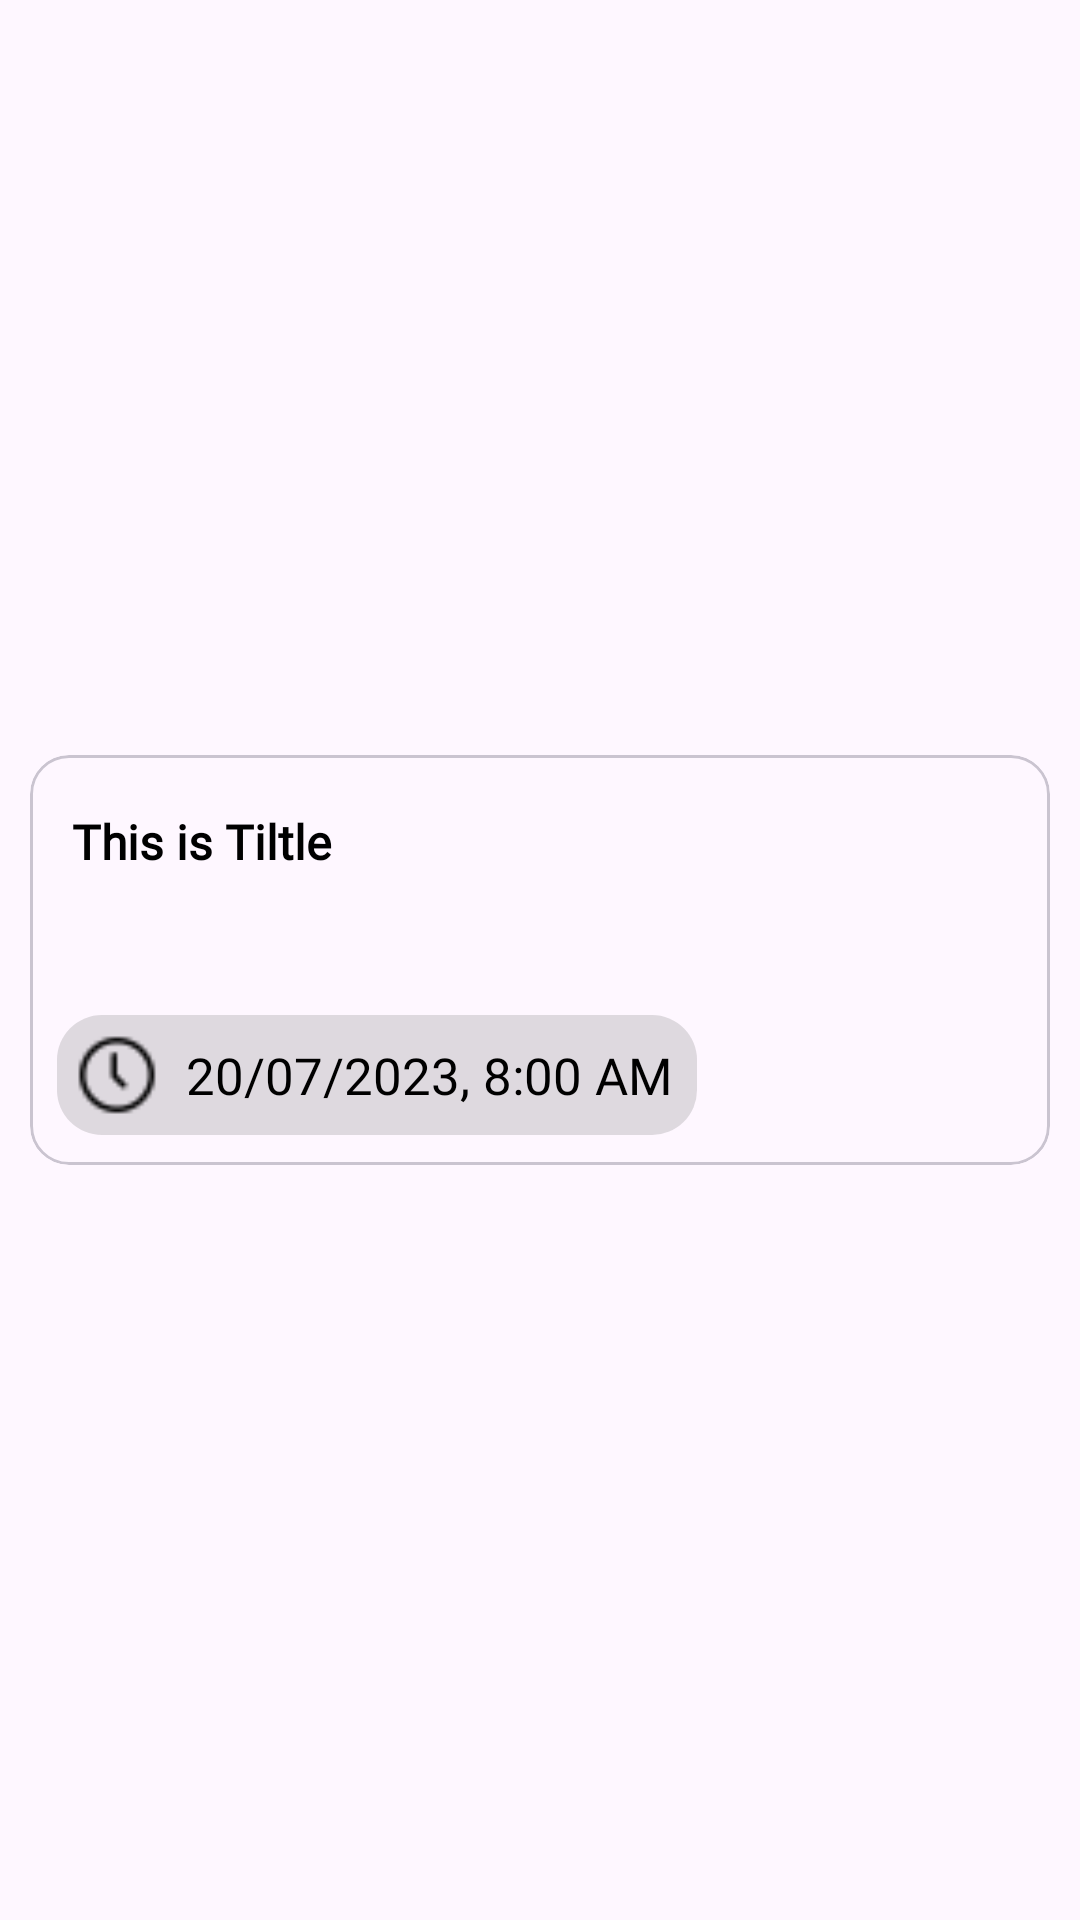

Icons on this 1080w x 1920h Android screen, each with its box as (x1, y1, x2, y2):
clock: (78, 1036, 156, 1114)
